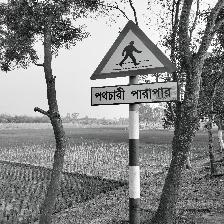Pedestrian-crossing: (90, 20, 179, 106)
